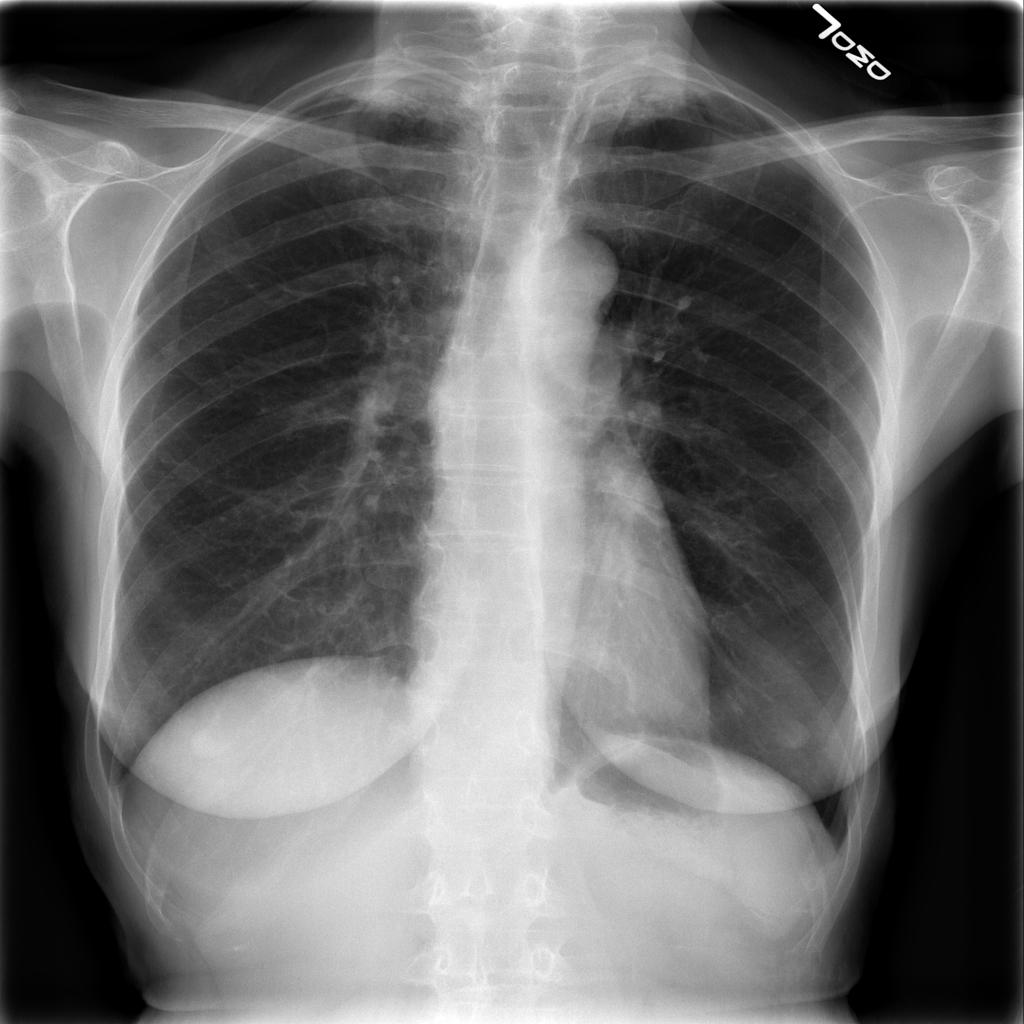nodule: (172, 710, 246, 776), (761, 710, 819, 757)
